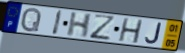H: (65, 11, 94, 39), (117, 17, 144, 45)
I: (51, 9, 65, 37)
J: (144, 22, 163, 45)
Q: (19, 7, 43, 34)
Z: (89, 13, 117, 41)
